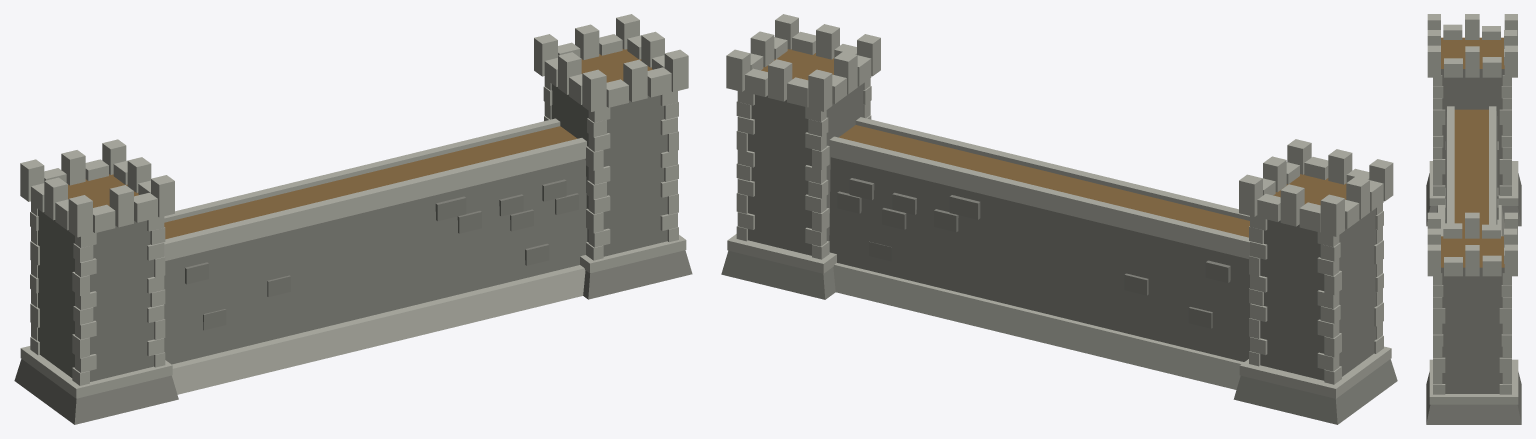
The model's file is Wall.fbx.
3 renders of one model, left to right at view 1: azimuth 30°, elevation 25°; view 2: azimuth 150°, elevation 25°; view 3: azimuth 270°, elevation 25°, orthographic. The views are drawn at different scales.
Visible parts, largest first — view 1: WallTowers_SecondAge; view 2: WallTowers_SecondAge; view 3: WallTowers_SecondAge.
Part boxes in pixels (bbox=[...]): WallTowers_SecondAge: bbox=[14, 14, 692, 424]; WallTowers_SecondAge: bbox=[721, 14, 1397, 424]; WallTowers_SecondAge: bbox=[1426, 14, 1521, 424].
Size of the model in its own units: 198 by 66.76 by 33.34.
